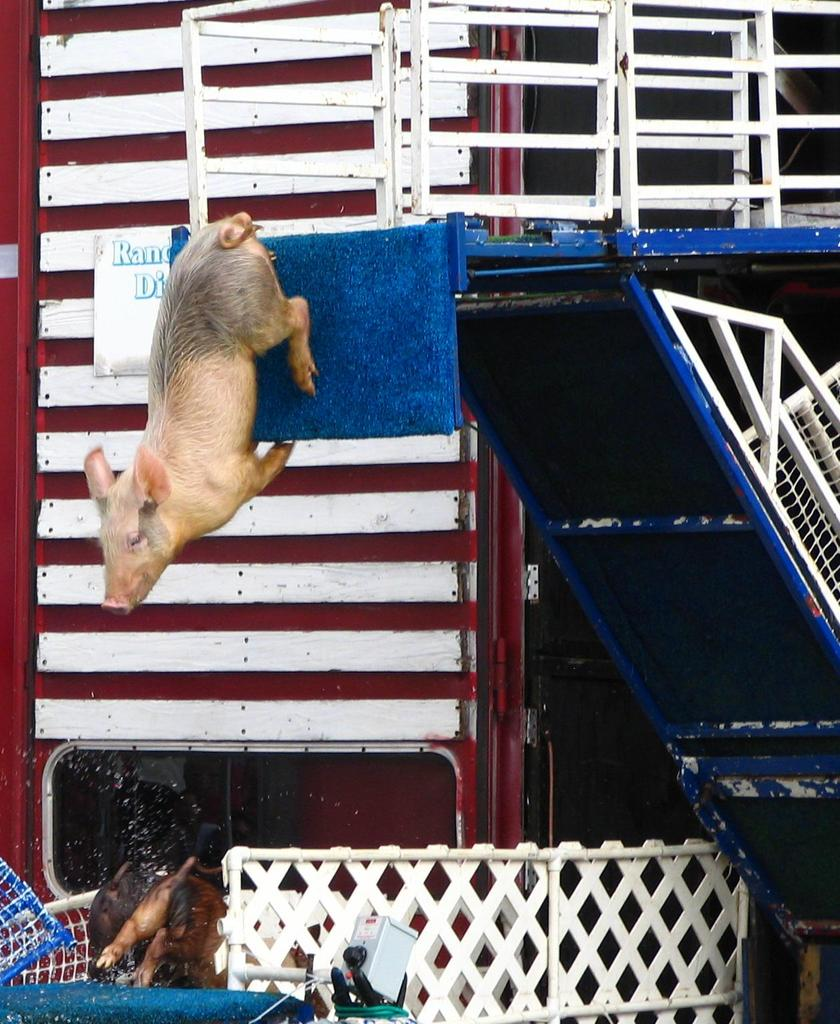Animal: (81, 206, 314, 608)
